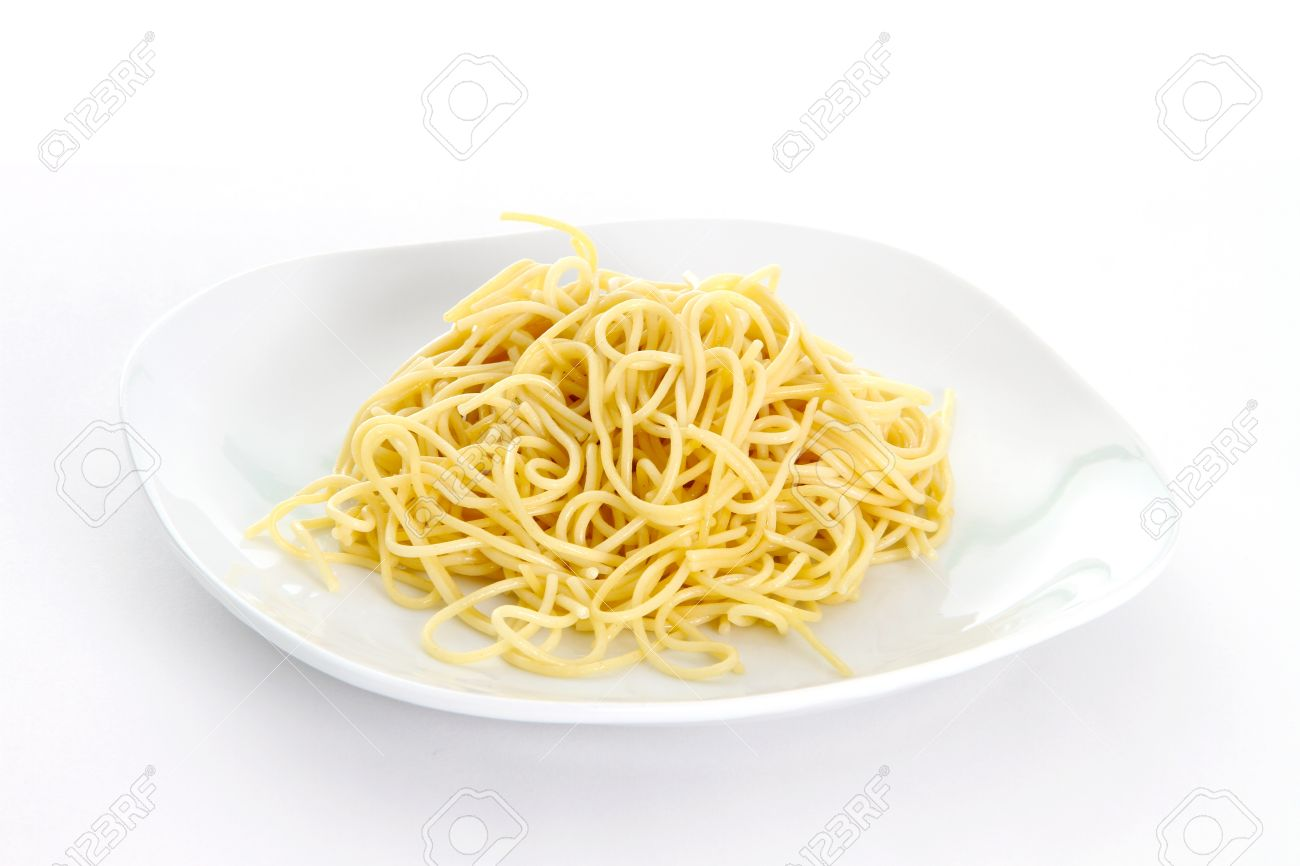plain spaghetti: (348, 268, 905, 614)
